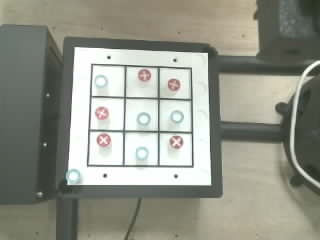blue circle: (66, 169, 80, 183), (136, 147, 149, 161), (137, 112, 150, 125), (170, 110, 183, 122), (95, 75, 107, 87)
board: (65, 46, 213, 186)
cells: (89, 132, 122, 165), (125, 133, 157, 165), (160, 133, 191, 165), (125, 99, 157, 130), (92, 65, 124, 96), (159, 100, 191, 131), (91, 98, 123, 129), (126, 67, 157, 97), (160, 68, 190, 98)
grid: (87, 64, 193, 167)
red cross: (96, 133, 110, 146), (95, 106, 108, 119), (138, 69, 151, 81), (170, 136, 183, 148), (168, 78, 180, 90)
